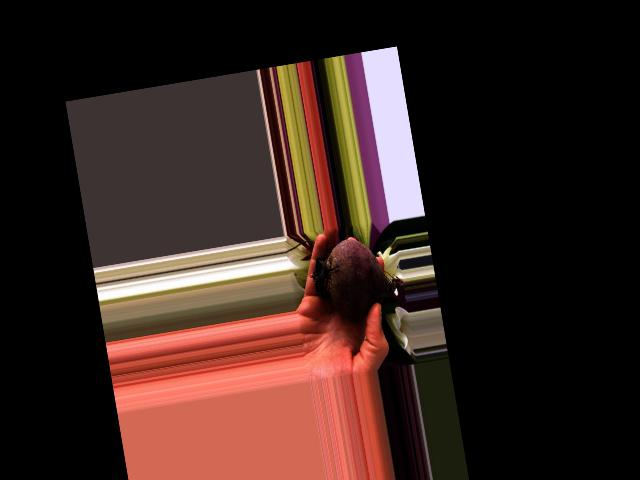beet: (305, 230, 408, 324)
